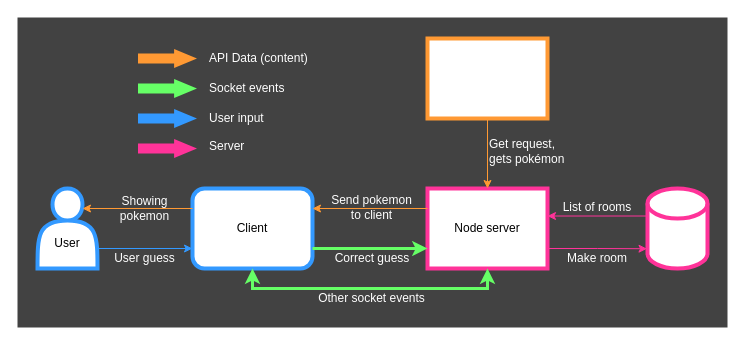
Image size: 744x344. Some labels were removed from this diagram. The shapes that lost their labels are listed below. From the top down, each one's centre as x and y in pixels, then its label:
At pixel 487 78: "PokéAPI".
At pixel 677 228: "JSON Database".
